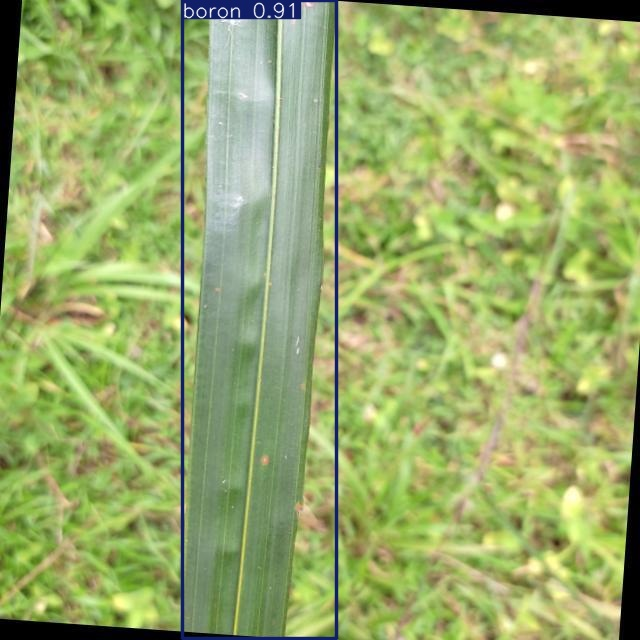nitrogen: (182, 0, 337, 638)
